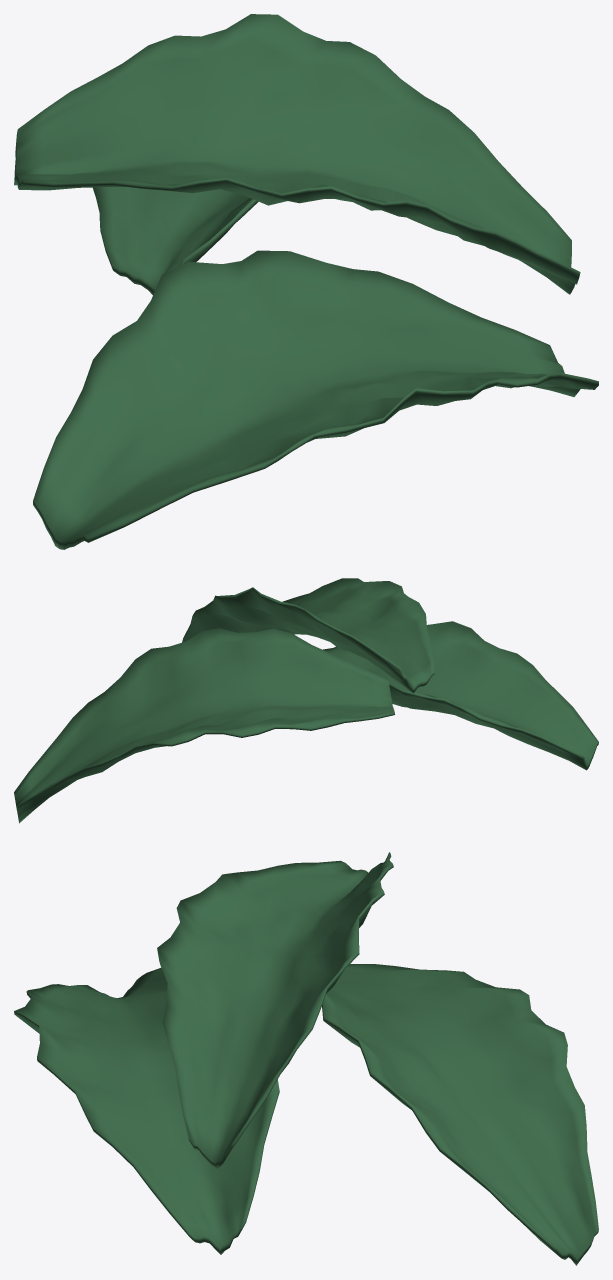
Rendered from чай7вруке.fbx.
3 views of the same model, one above another, from view 1: azimuth 30°, elevation 25°; view 2: azimuth 150°, elevation 25°; view 3: azimuth 270°, elevation 25° (orthographic). The views are drawn at different scales.
Visible parts, largest first — view 1: Мята_Лист_1, Мята_Лист_3, Мята_Лист_2; view 2: Мята_Лист_2, Мята_Лист_1, Мята_Лист_3; view 3: Мята_Лист_2, Мята_Лист_3, Мята_Лист_1.
Boxes of the visible parts, x1=… form: Мята_Лист_1: x1=33, y1=250, x2=598, y2=549; Мята_Лист_3: x1=14, y1=14, x2=580, y2=294; Мята_Лист_2: x1=92, y1=187, x2=258, y2=294; Мята_Лист_2: x1=14, y1=628, x2=394, y2=823; Мята_Лист_1: x1=323, y1=621, x2=598, y2=770; Мята_Лист_3: x1=182, y1=578, x2=434, y2=693; Мята_Лист_2: x1=322, y1=964, x2=598, y2=1265; Мята_Лист_3: x1=157, y1=852, x2=393, y2=1169; Мята_Лист_1: x1=14, y1=968, x2=279, y2=1254.
Bounding box in the file's own units: 1.56 × 0.8098 × 1.53.
